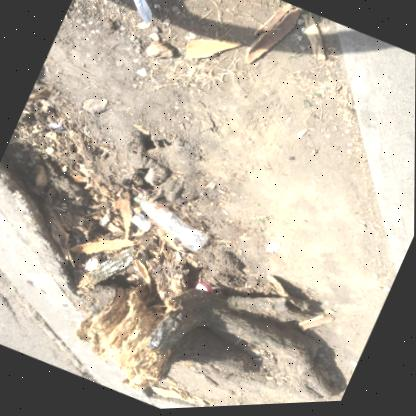Paper: (195, 282, 214, 294), (47, 124, 64, 132)
Plastic: (133, 197, 208, 253), (133, 0, 151, 25), (130, 199, 144, 223), (211, 289, 221, 290)
Waste: (130, 215, 151, 232), (222, 210, 229, 217)
